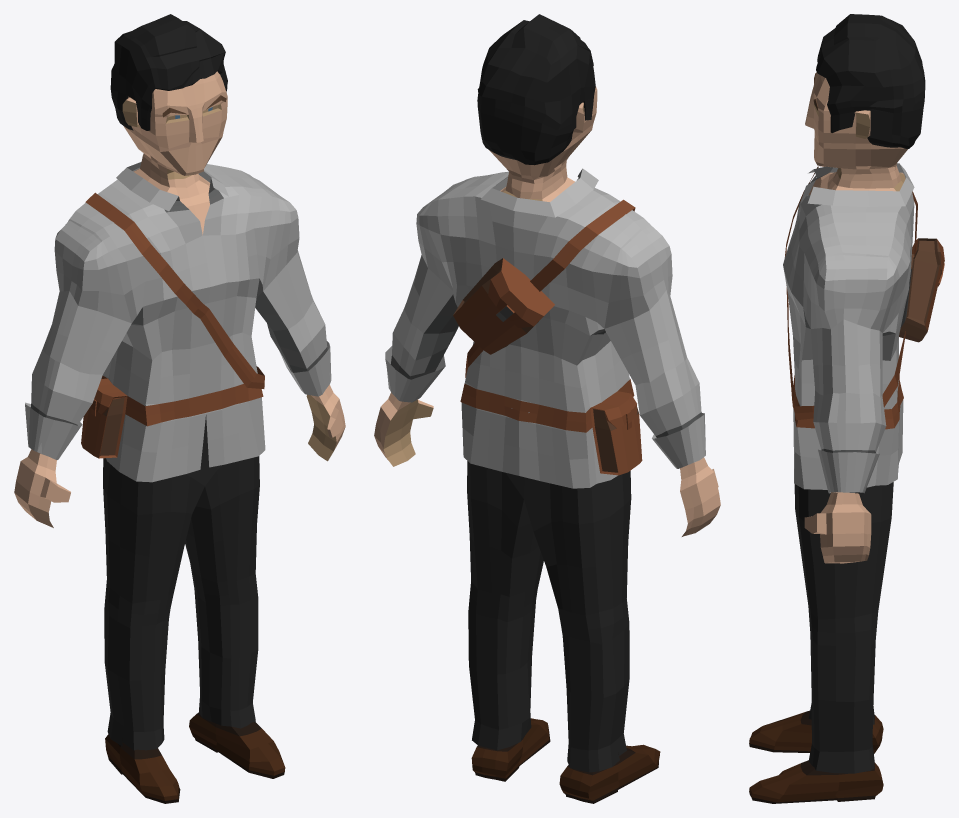
Rendered from Player1.fbx.
3 renders of one model, left to right at view 1: azimuth 30°, elevation 25°; view 2: azimuth 150°, elevation 25°; view 3: azimuth 270°, elevation 25°, orthographic. The views are drawn at different scales.
Visible parts, largest first — view 1: Shirt.001, Pants.001, Bady, Herr, Shoes, bag, bag.002; view 2: Shirt.001, Pants.001, Herr, Bady, bag, bag.003, Shoes, bag.002; view 3: Shirt.001, Pants.001, Herr, Bady, Shoes, bag.003, bag.002, bag.
Part boxes in pixels (left/top/right/bottom): Shirt.001: left=25, top=162, right=331, bottom=482; Pants.001: left=103, top=415, right=259, bottom=750; Bady: left=14, top=71, right=345, bottom=527; Herr: left=110, top=14, right=227, bottom=130; Shoes: left=105, top=712, right=285, bottom=803; bag: left=81, top=375, right=263, bottom=458; bag.002: left=85, top=192, right=264, bottom=388; Shirt.001: left=385, top=168, right=705, bottom=488; Pants.001: left=467, top=461, right=631, bottom=772; Herr: left=477, top=14, right=595, bottom=165; Bady: left=374, top=86, right=720, bottom=536; bag: left=460, top=379, right=642, bottom=475; bag.003: left=453, top=258, right=554, bottom=354; Shoes: left=471, top=718, right=660, bottom=803; bag.002: left=465, top=199, right=635, bottom=377; Shirt.001: left=783, top=163, right=914, bottom=493; Pants.001: left=794, top=482, right=893, bottom=773; Herr: left=816, top=14, right=925, bottom=148; Bady: left=804, top=72, right=907, bottom=563; Shoes: left=749, top=710, right=883, bottom=803; bag.003: left=899, top=238, right=944, bottom=342; bag.002: left=784, top=166, right=917, bottom=420; bag: left=792, top=375, right=903, bottom=429.
Size of the model in its own units: 206 by 453 by 107.
